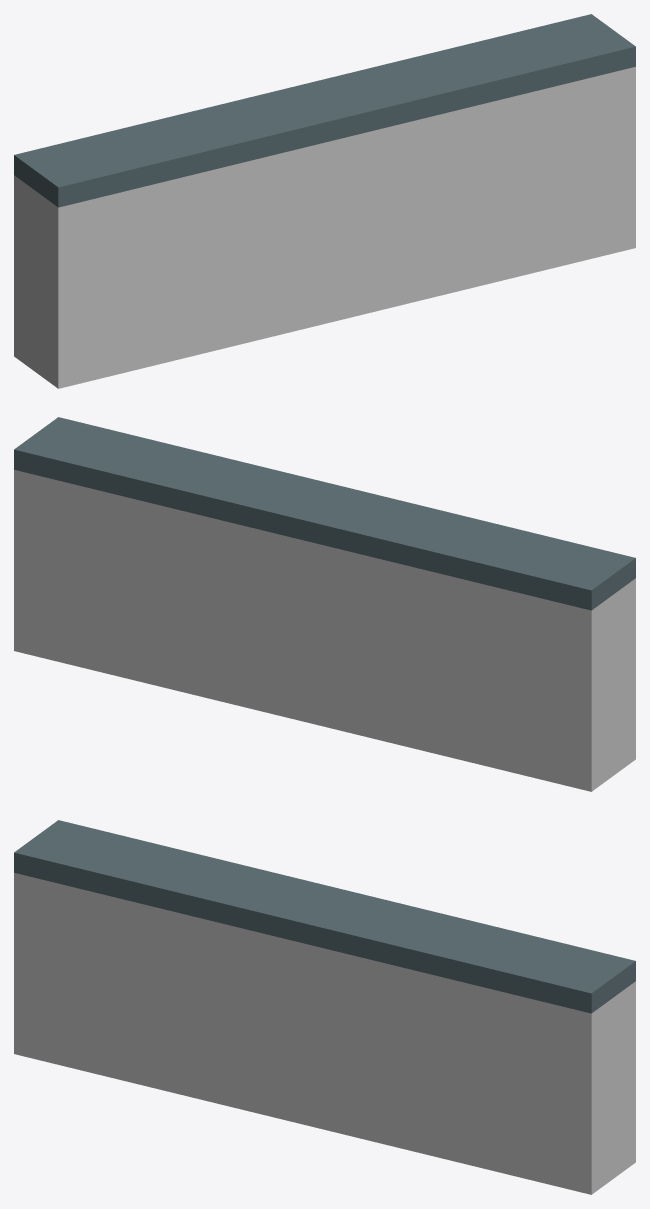
Rendered from scifi_wall_half.fbx.
The picture shows the model from 3 angles, top to bottom: view 1: azimuth 30°, elevation 25°; view 2: azimuth 150°, elevation 25°; view 3: azimuth 330°, elevation 25°; orthographic projection.
Parts seen in each view (by area): view 1: Cube.049; view 2: Cube.049; view 3: Cube.049.
Part boxes in pixels (box(x1,y1,x2,y2)): Cube.049: box(14, 14, 635, 388); Cube.049: box(14, 417, 635, 791); Cube.049: box(14, 820, 635, 1194).
Size of the model in its own units: 3 by 1 by 0.4.
